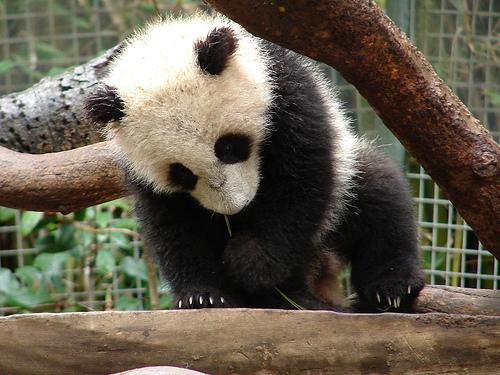panda: (82, 15, 423, 309)
